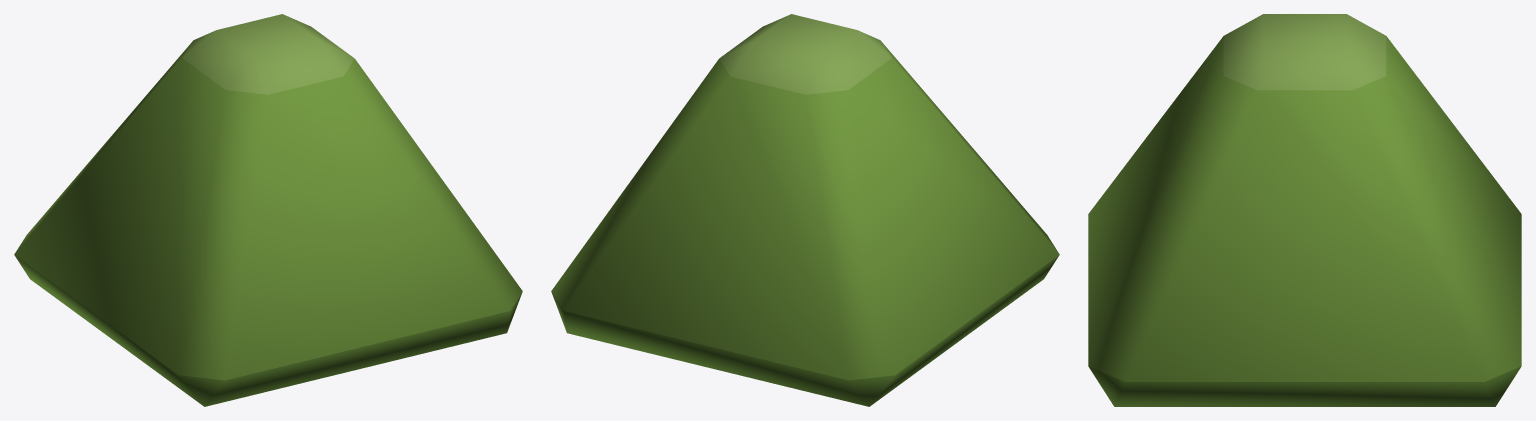
Rendered from itch_kaykit_forest_bush_4_b_color1.glb.
The picture shows the model from 3 angles, left to right: view 1: azimuth 30°, elevation 25°; view 2: azimuth 150°, elevation 25°; view 3: azimuth 270°, elevation 25°; orthographic projection. The views are drawn at different scales.
Visible parts, largest first — view 1: Bush_4_B_Color1; view 2: Bush_4_B_Color1; view 3: Bush_4_B_Color1.
Part boxes in pixels (bbox=[...]): Bush_4_B_Color1: bbox=[14, 14, 522, 406]; Bush_4_B_Color1: bbox=[551, 14, 1059, 406]; Bush_4_B_Color1: bbox=[1088, 14, 1521, 406].
Size of the model in its own units: 0.96 by 0.7202 by 0.96.
